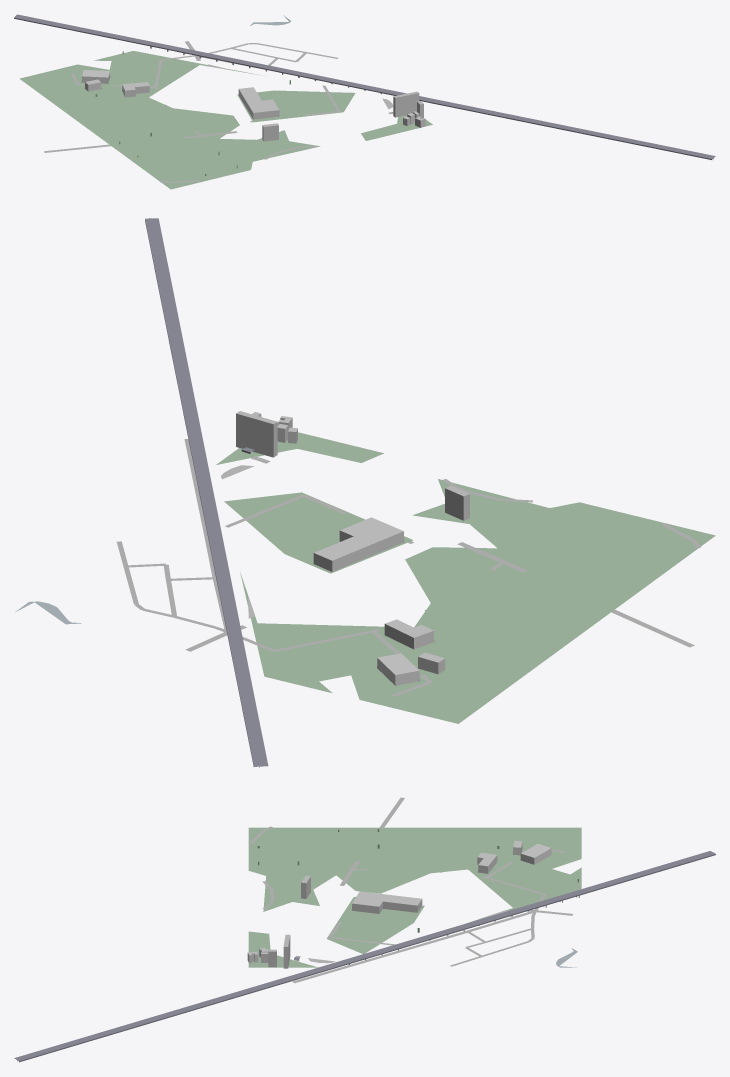
3 views of the same model, one above another, from view 1: azimuth 30°, elevation 25°; view 2: azimuth 150°, elevation 25°; view 3: azimuth 270°, elevation 25° (orthographic). The views are drawn at different scales.
Size of the model in its own units: 948 by 37.55 by 1054.
